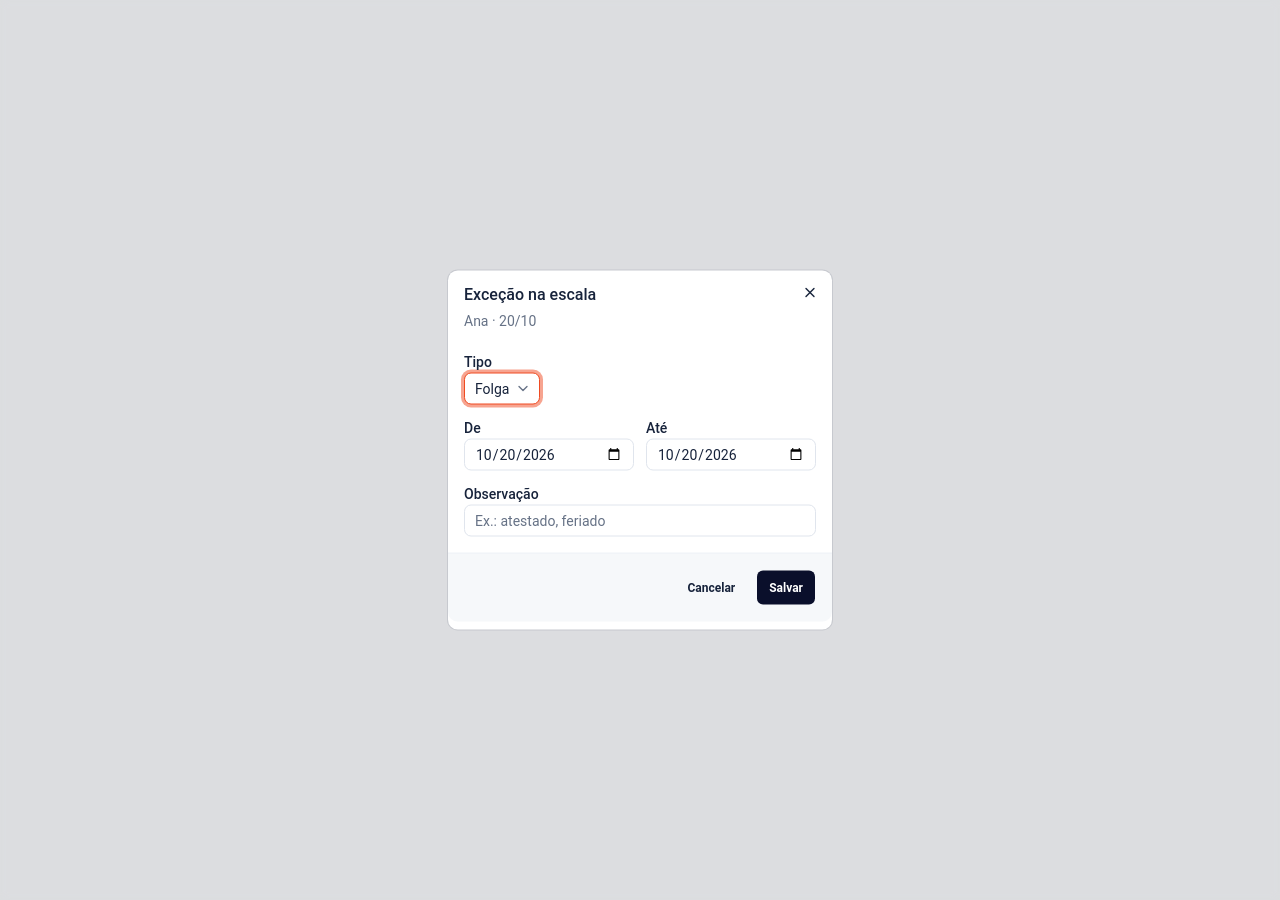
Scenario: ExceptionDialog: retorno do servidor › 403 staff_schedule.forbidden mostra a mensagem e não fecha
The image size is (1280, 900).
What coordinates should you click on to do the following:
click the button "Salvar"
I would click on:
 (786, 588)
Its box is [756, 570, 816, 606].
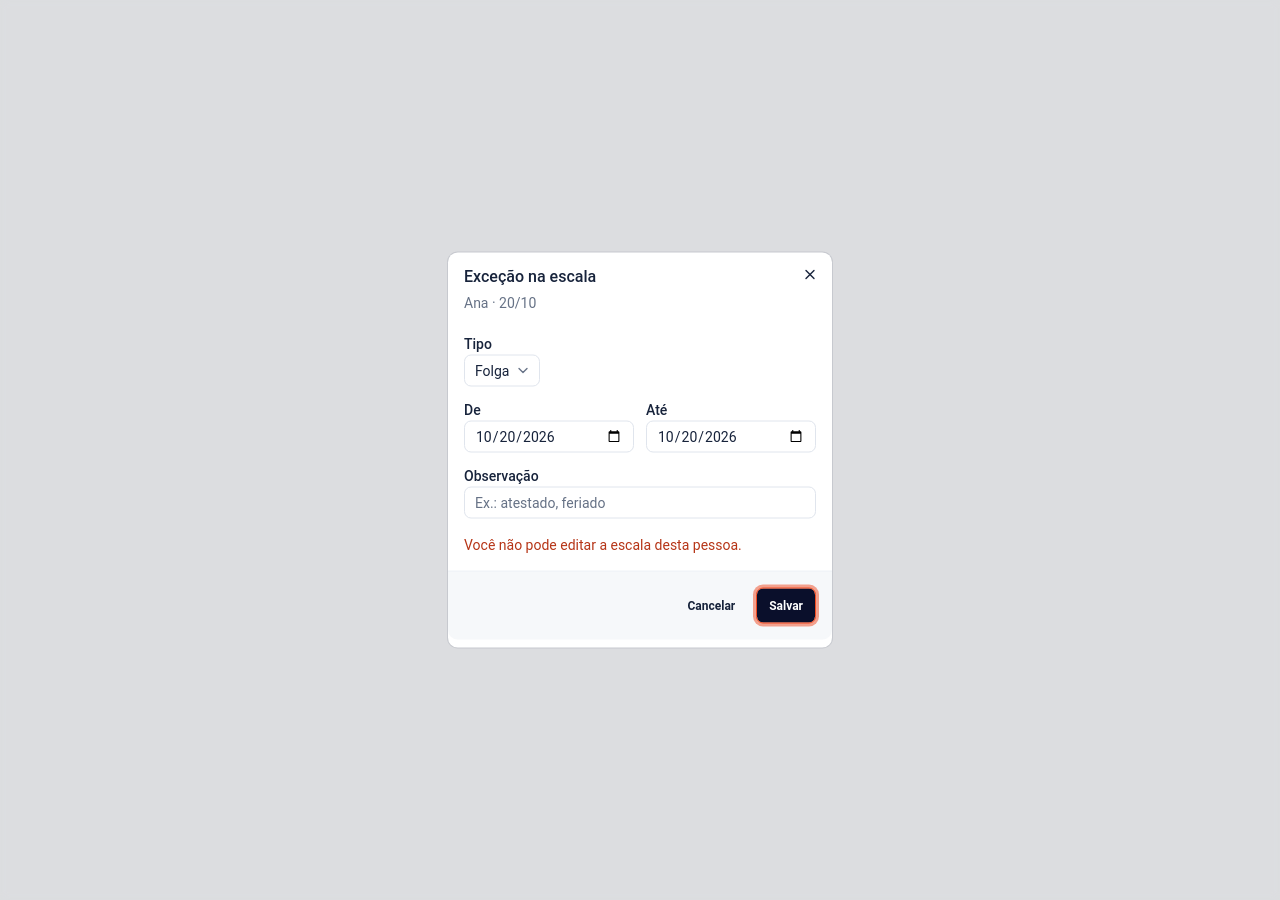
Expected: the text "Você não pode editar a escala desta pessoa." is shown, [464, 536, 742, 552]
